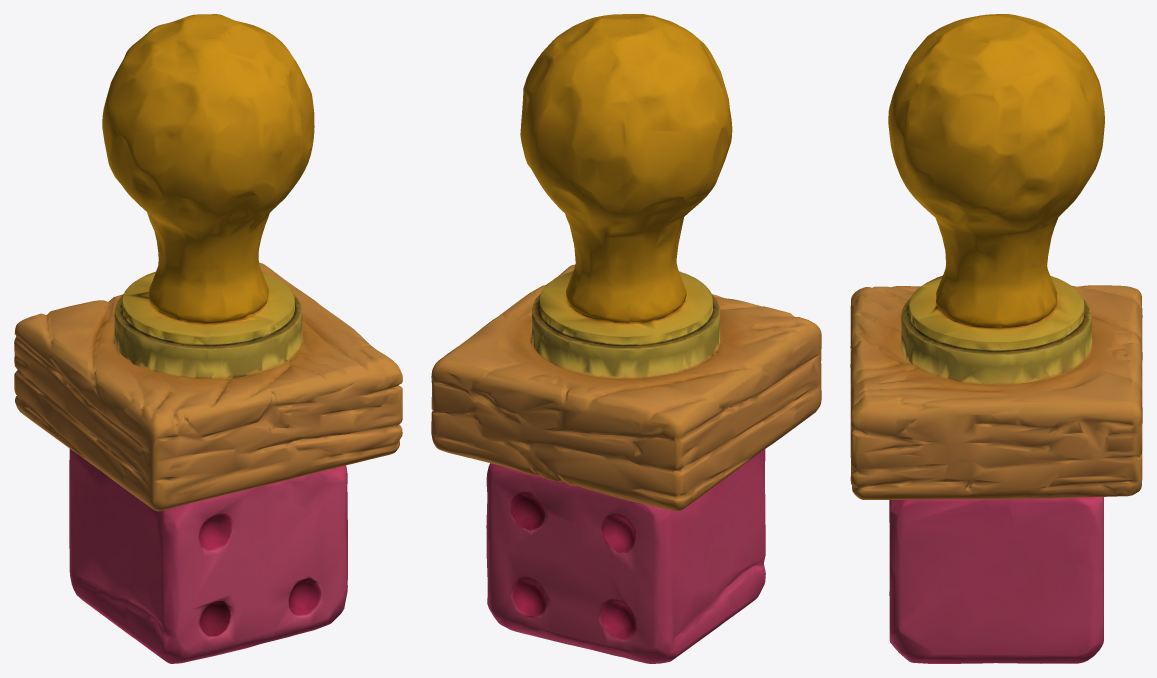
Rendered from rubber_stamp.glb.
3 renders of one model, left to right at view 1: azimuth 30°, elevation 25°; view 2: azimuth 150°, elevation 25°; view 3: azimuth 270°, elevation 25°, orthographic.
Visible parts, largest first — view 1: tripo_node_e973b421-7abb-437c-b10b-5a083022c683; view 2: tripo_node_e973b421-7abb-437c-b10b-5a083022c683; view 3: tripo_node_e973b421-7abb-437c-b10b-5a083022c683.
Part boxes in pixels (bbox=[...]): tripo_node_e973b421-7abb-437c-b10b-5a083022c683: bbox=[14, 14, 402, 663]; tripo_node_e973b421-7abb-437c-b10b-5a083022c683: bbox=[431, 14, 821, 663]; tripo_node_e973b421-7abb-437c-b10b-5a083022c683: bbox=[850, 14, 1142, 663].
Size of the model in its own units: 0.4496 by 1 by 0.4433.
1 material, 1 textured.
